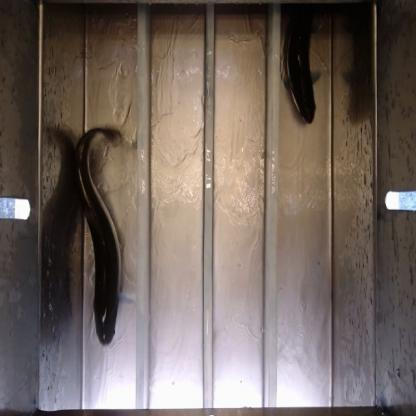pezw: (77, 119, 129, 348), (283, 6, 325, 127)
